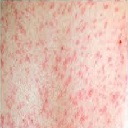Measles: (6, 7, 121, 128)
